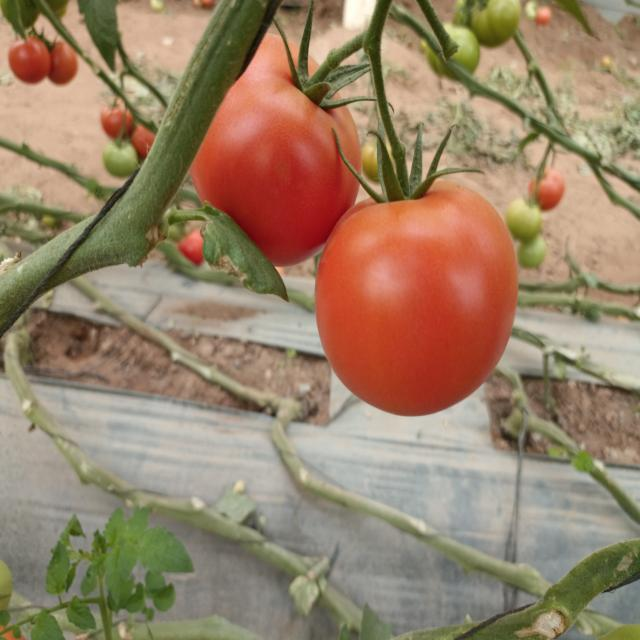Ripe Tomato: (316, 181, 519, 421), (181, 33, 361, 269)
